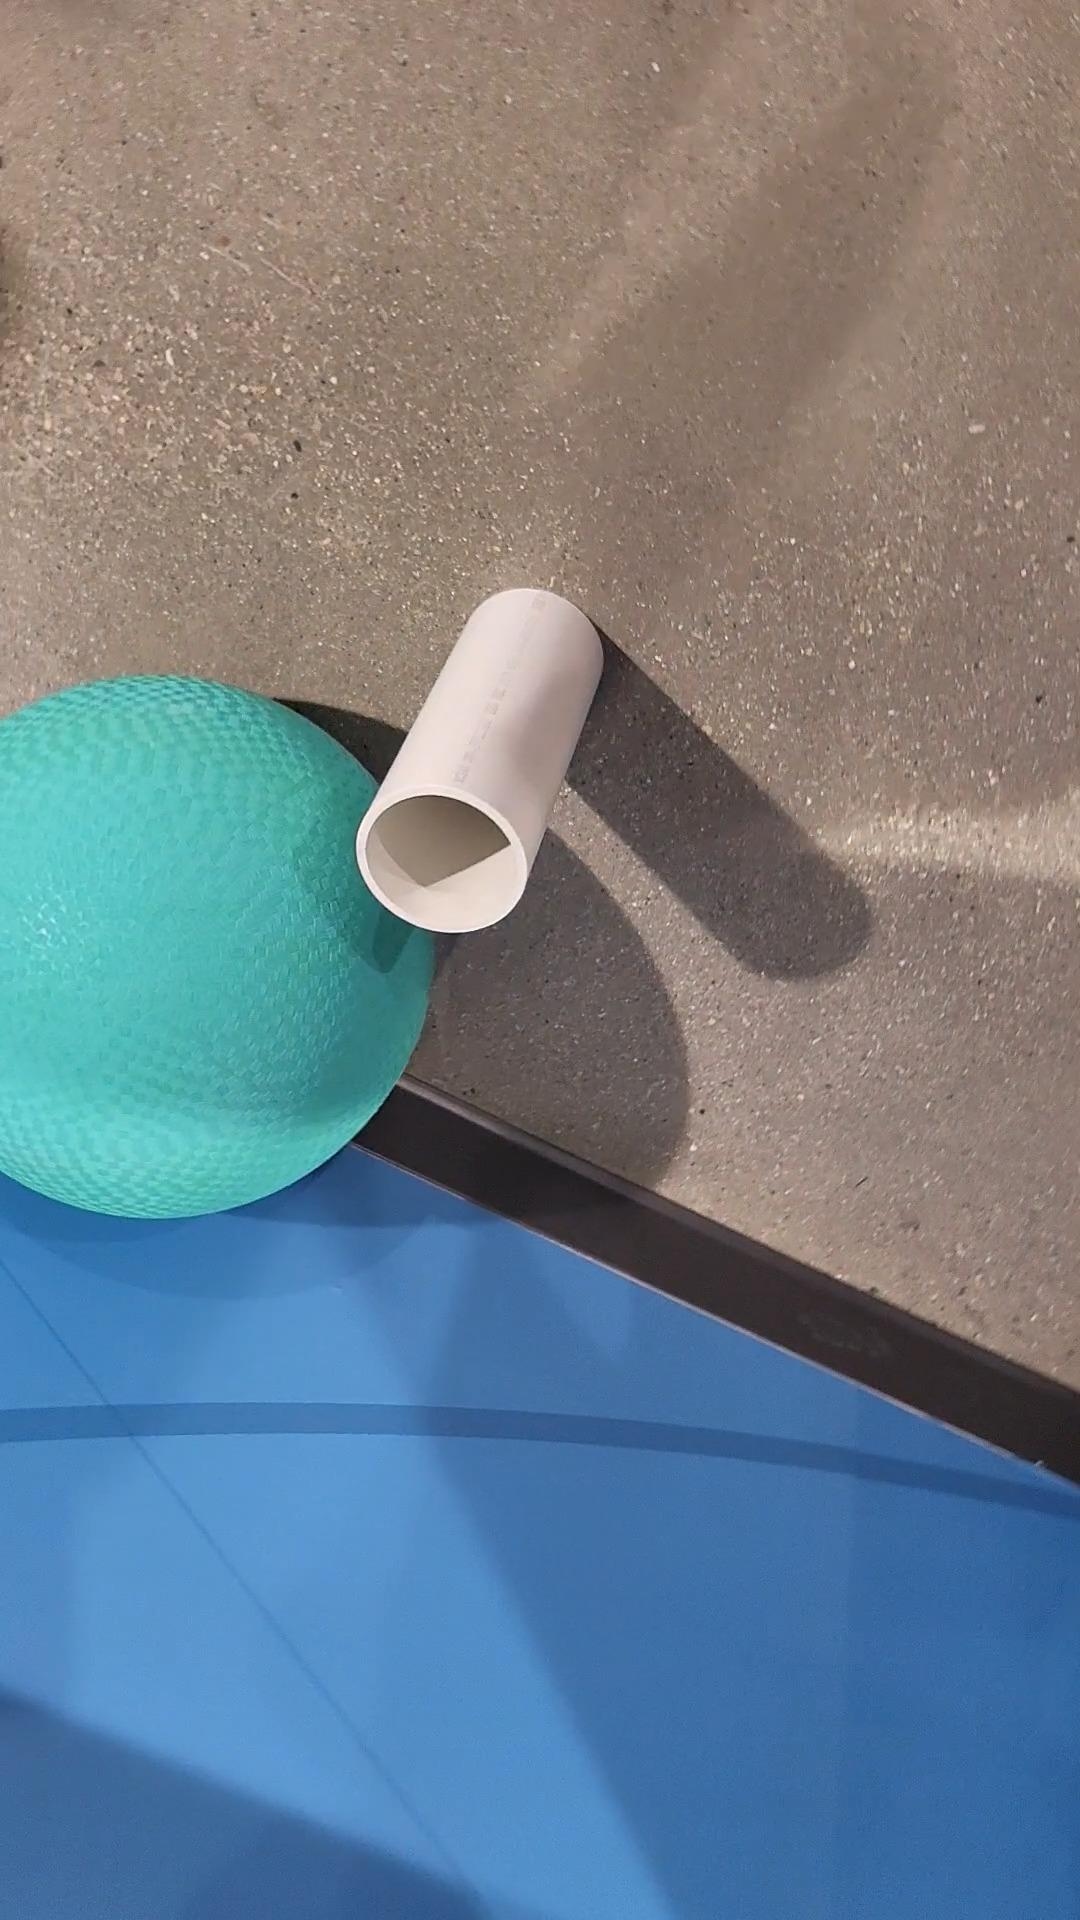algae: (0, 674, 434, 1224)
coral: (359, 591, 603, 930)
